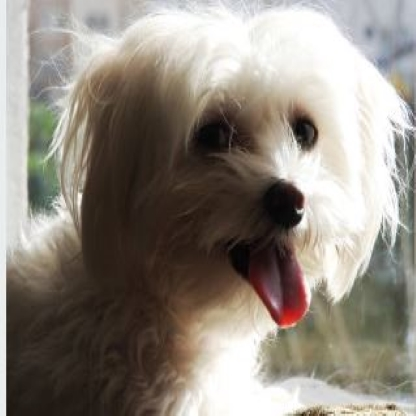maltese: (17, 2, 404, 416)
